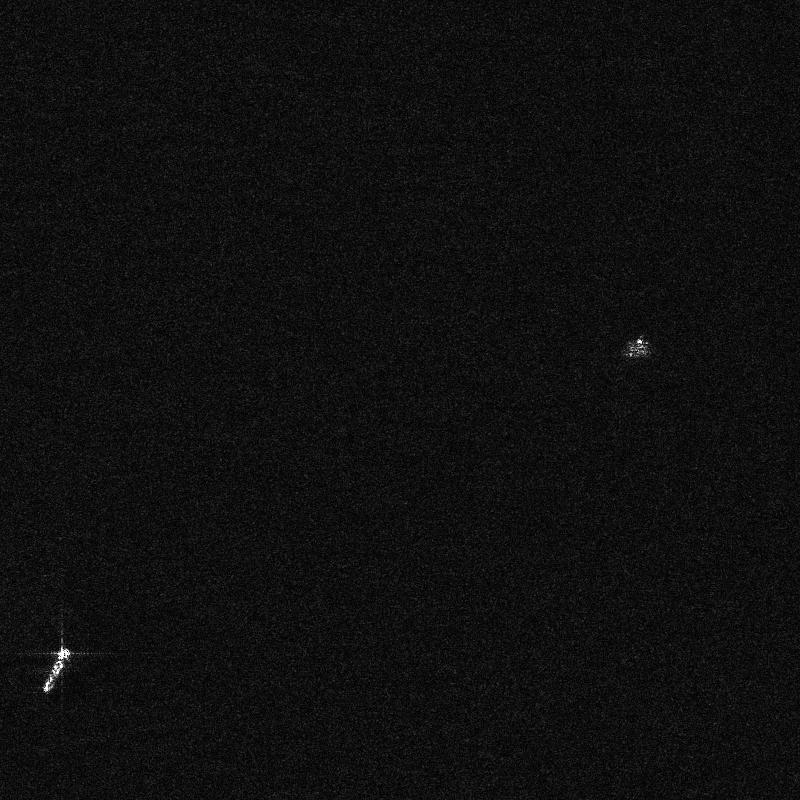ship: (42, 648, 70, 693)
